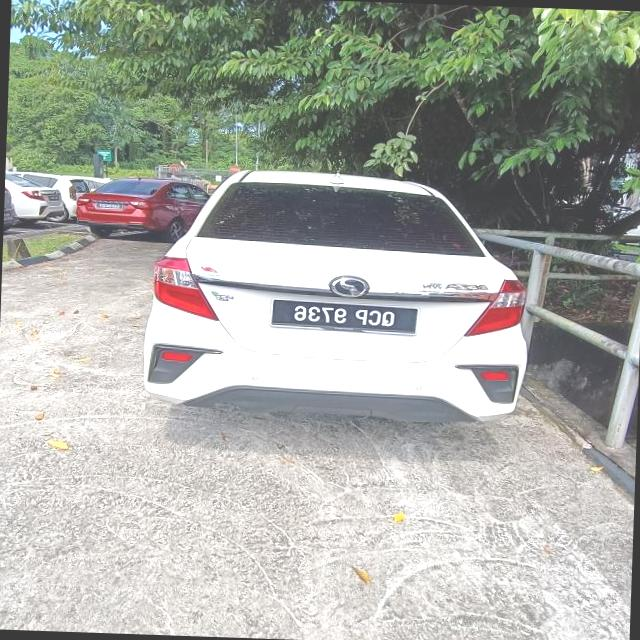PeroduaBezza: (140, 164, 535, 426)
